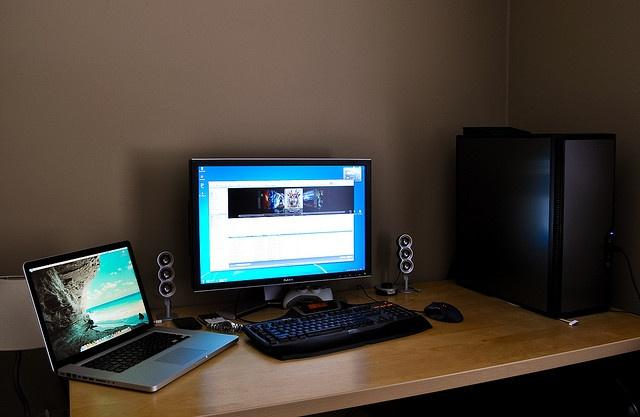AIO PC-Monitor-TV: (187, 156, 372, 293)
Meja: (66, 279, 639, 415)
